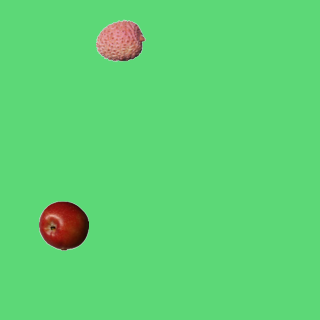Apple Braeburn: (38, 200, 88, 250)
Lychee: (95, 15, 145, 65)
